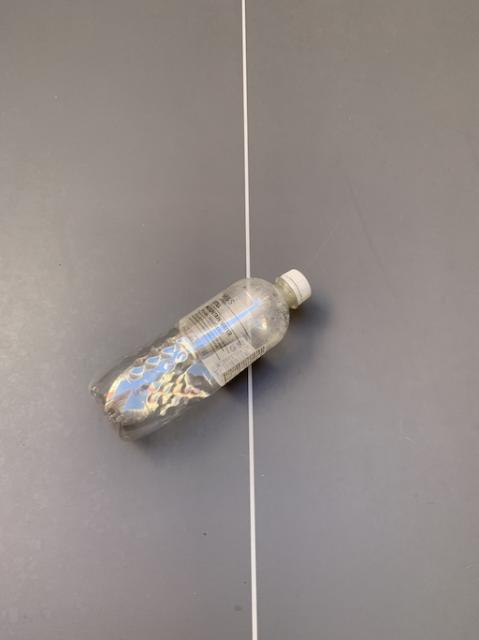plastic: (90, 269, 309, 439)
